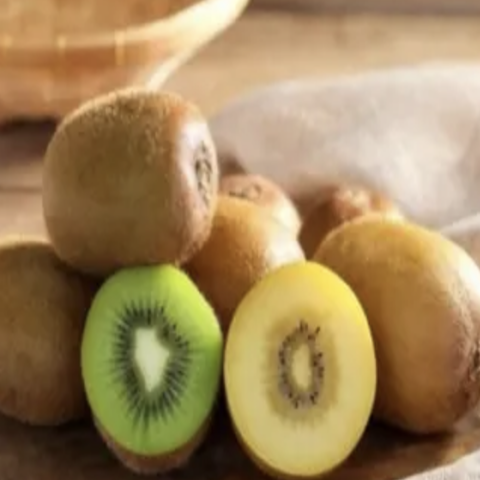kiwi: (300, 179, 480, 467), (28, 81, 233, 269)
